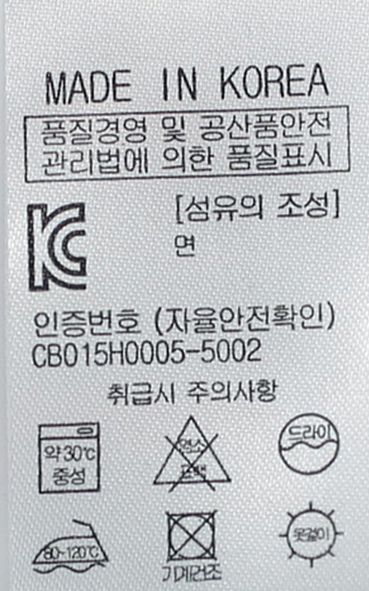KR_dry_clean: (275, 408, 345, 479)
KR_hang_dry: (280, 503, 342, 570)
KR_iron_low_temp_with_cloth: (30, 512, 113, 579)
KR_no_chlorine_bleach: (153, 414, 238, 494)
KR_no_tumble_dry: (162, 508, 226, 584)
KR_wash_warm_30_neutral: (29, 415, 110, 499)
